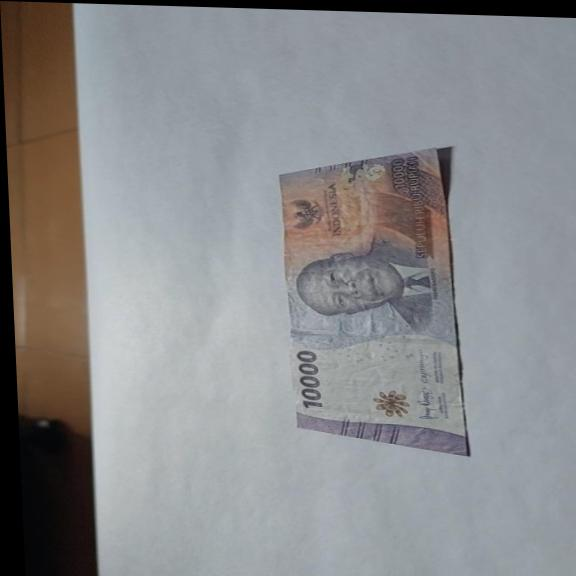Kertas: (275, 140, 470, 456), (294, 349, 324, 410)
